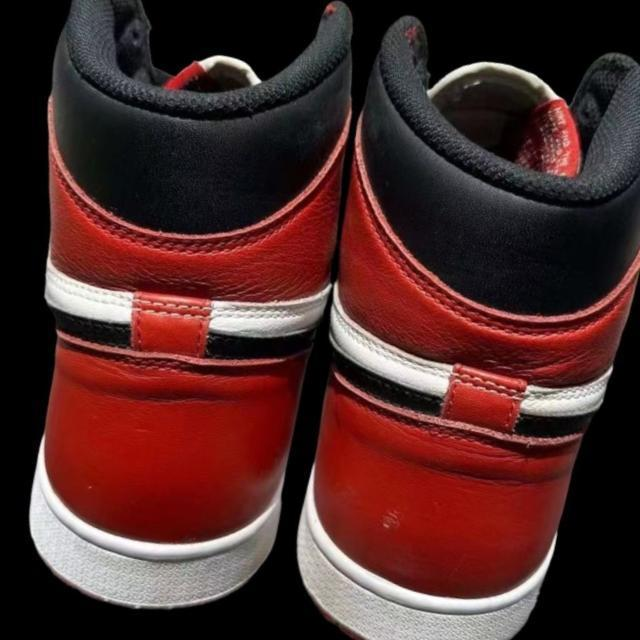nike original jordan 1: (255, 6, 640, 640), (0, 0, 381, 634)
